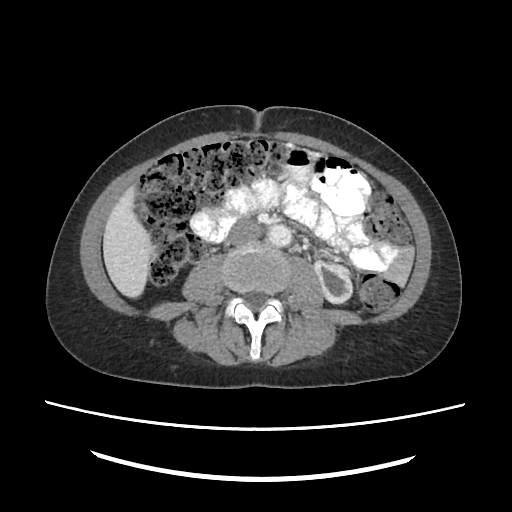Lesion: (318, 261, 352, 301)
